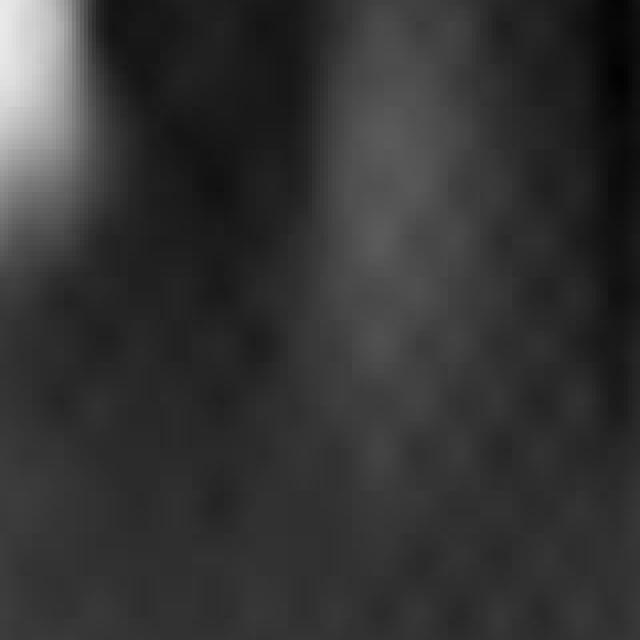person: (1, 1, 117, 262)
